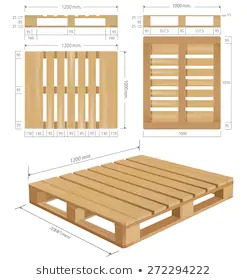pallet: (27, 145, 236, 254), (22, 48, 119, 135), (142, 33, 225, 134)
